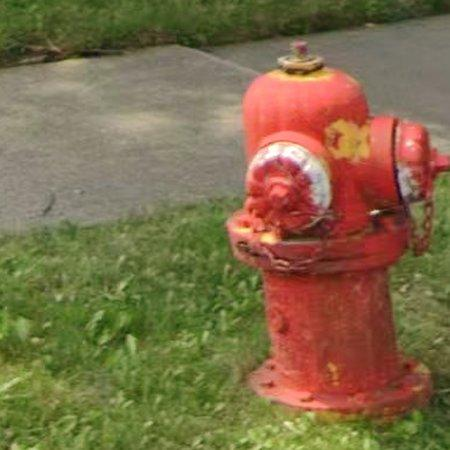a fire hydrant: (227, 43, 450, 418)
